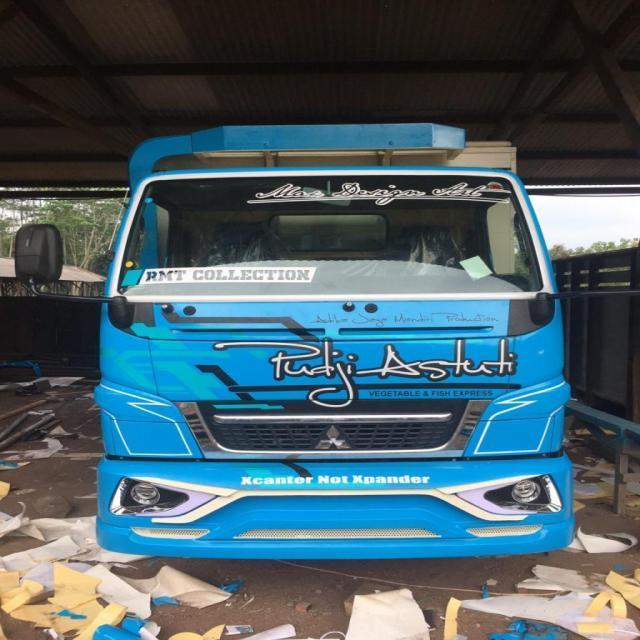truck: (21, 123, 576, 561)
